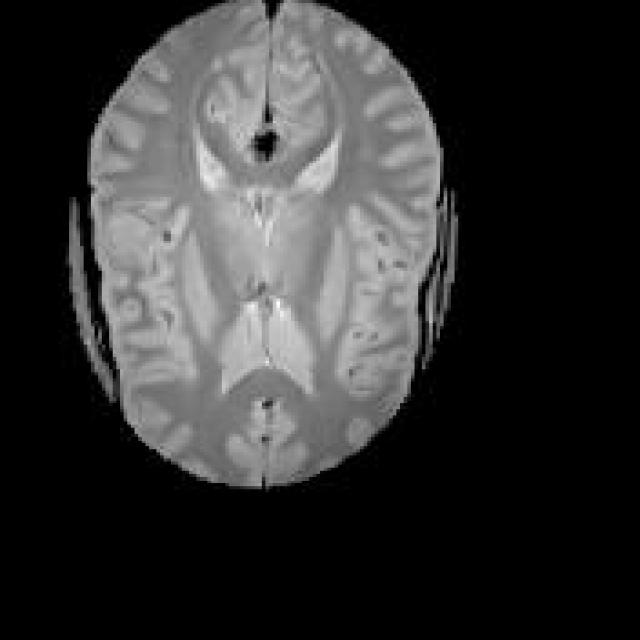CONTROL: (66, 0, 458, 489)
